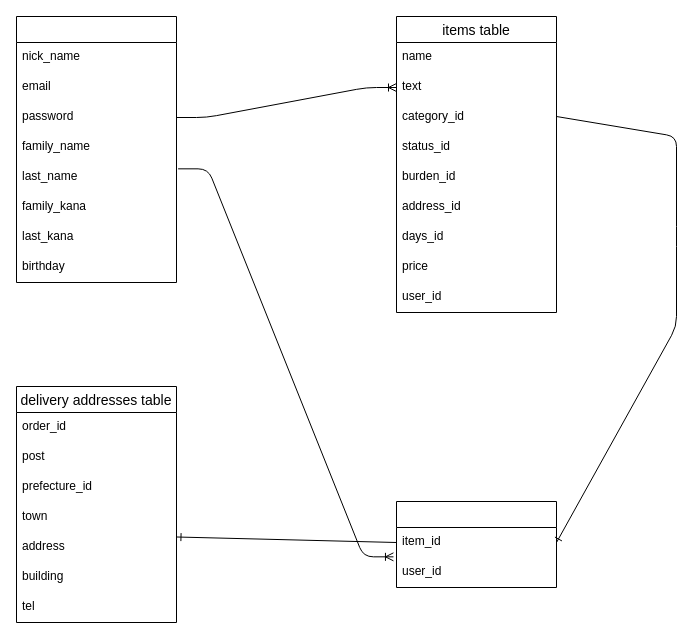
This 693x639 diagram has some shape labels left out. Here are the shapes that lost their labels. From the top down, the box of each, then its label:
(16, 16, 176, 282): users table
(396, 500, 556, 588): orders table
